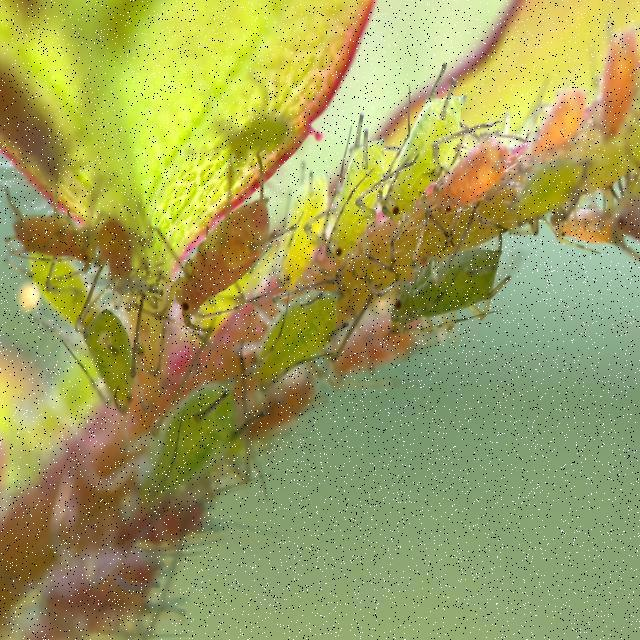Aphids: (142, 161, 306, 324)
